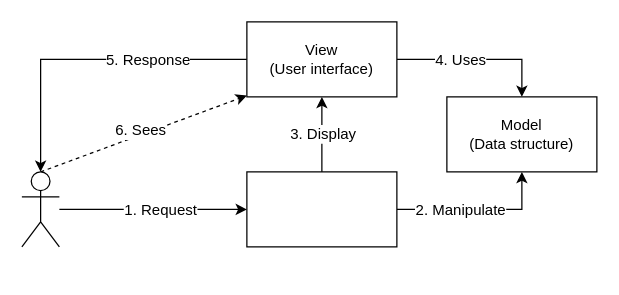
Some shapes in this 619 by 295 pixel diagram are drawn without their labels. The shapes that lost their labels are listed below. From the top down, each one's centre as x and y in pixels, then its label:
At pixel 40 209: "User".
At pixel 321 209: "Controller (Resource)".
